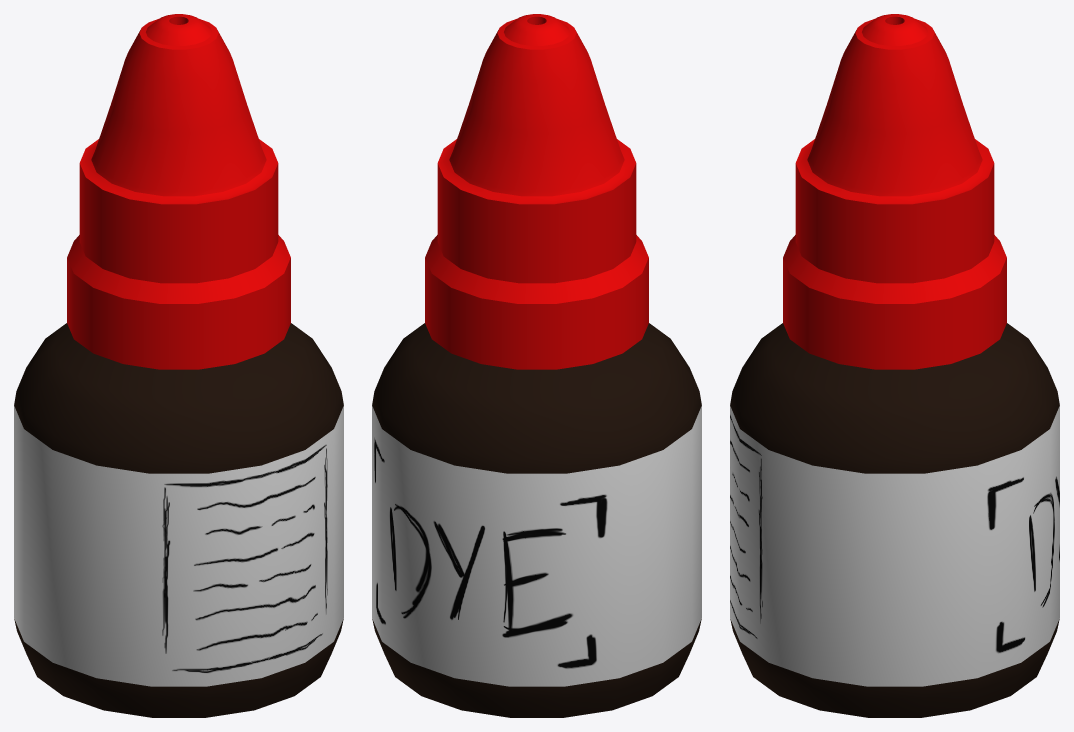
File: coranteVermelho2.fbx
The picture shows the model from 3 angles, left to right: view 1: azimuth 30°, elevation 25°; view 2: azimuth 150°, elevation 25°; view 3: azimuth 270°, elevation 25°; orthographic projection.
Visible parts, largest first — view 1: Corante, Tampa; view 2: Corante, Tampa; view 3: Corante, Tampa.
Boxes of the visible parts, left/top/right/bottom form: Corante: left=14, top=323, right=343, bottom=717; Tampa: left=67, top=14, right=290, bottom=369; Corante: left=372, top=323, right=701, bottom=717; Tampa: left=425, top=14, right=648, bottom=369; Corante: left=730, top=323, right=1059, bottom=717; Tampa: left=783, top=14, right=1006, bottom=369.
Bounding box in the file's own units: 215 × 463 × 218.
